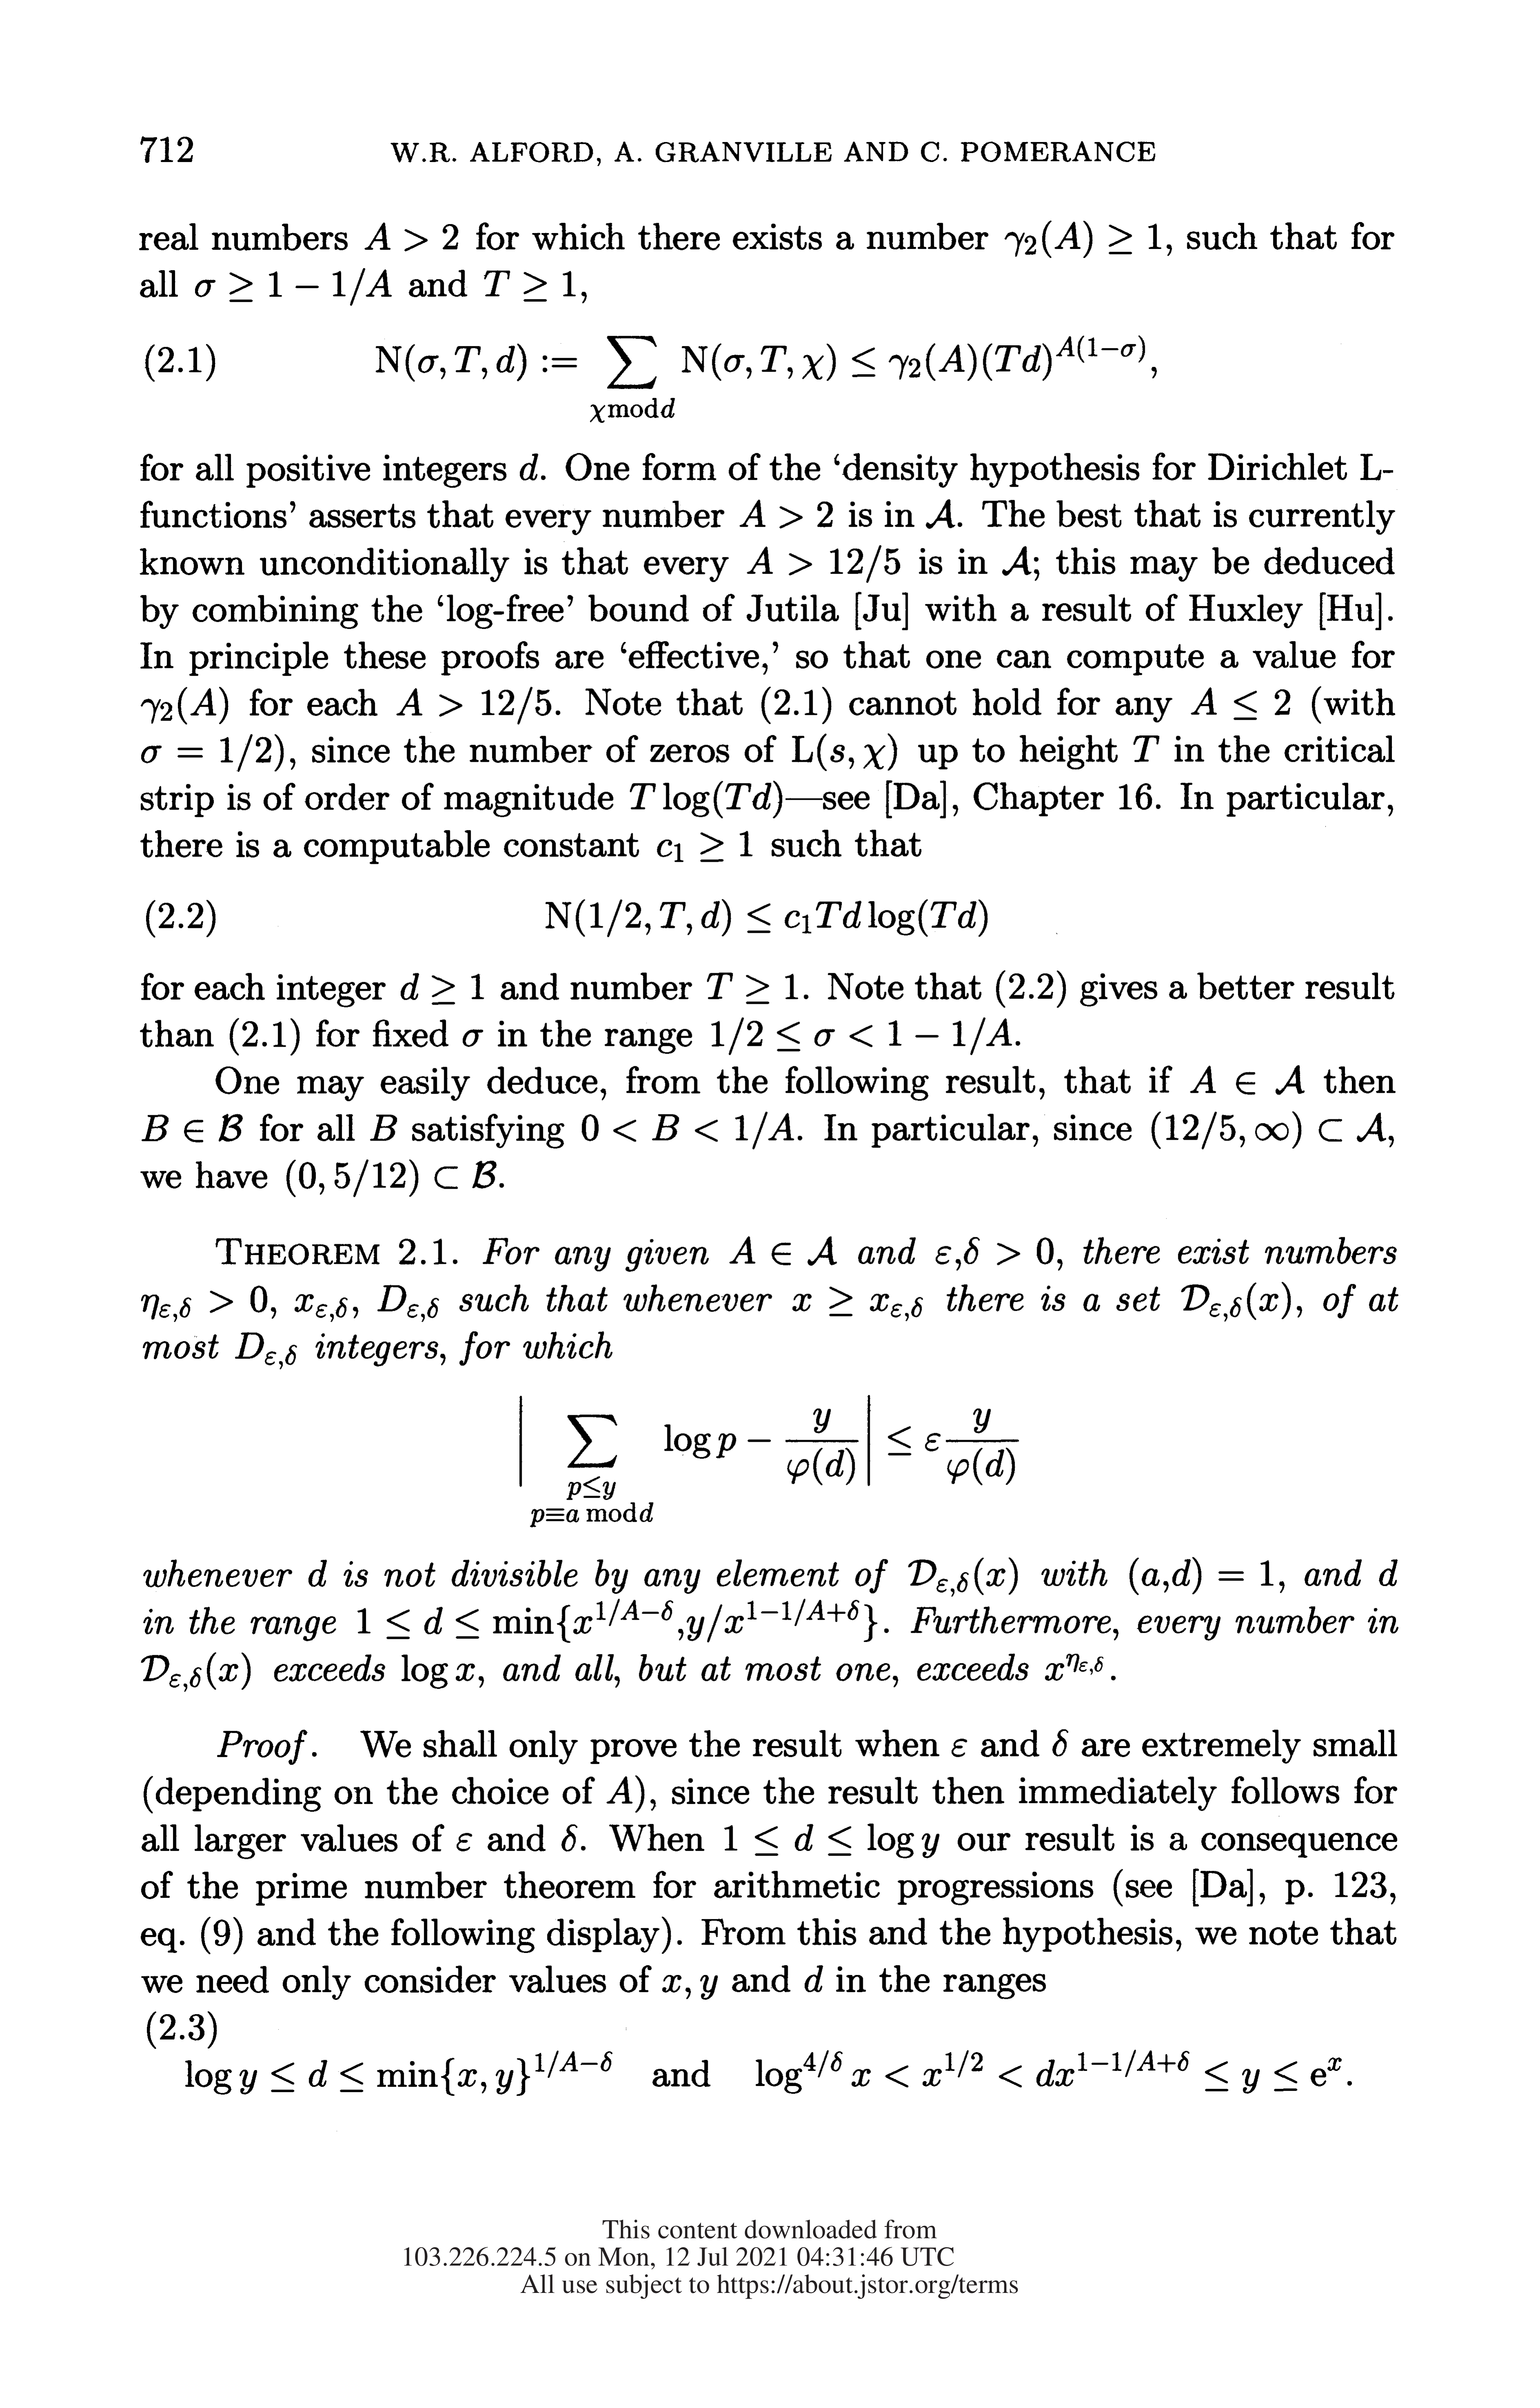maths: (542, 335, 1145, 423), (716, 1395, 1019, 1487), (756, 2050, 1342, 2094), (358, 1599, 877, 1643), (530, 1415, 710, 1527), (186, 2050, 612, 2096), (545, 899, 987, 937), (710, 1018, 1012, 1055), (1152, 1111, 1386, 1150), (582, 1111, 795, 1150), (286, 1160, 496, 1197), (724, 1824, 938, 1859), (195, 269, 391, 305), (1005, 221, 1161, 258), (396, 686, 551, 723), (747, 546, 900, 583), (375, 344, 526, 381), (1130, 1557, 1273, 1595), (140, 734, 284, 770), (140, 1286, 275, 1322), (793, 1286, 923, 1322), (140, 1652, 251, 1692), (663, 781, 782, 818), (909, 1557, 1017, 1597), (1180, 1283, 1291, 1322), (937, 1237, 1054, 1271), (791, 734, 896, 770), (1189, 1065, 1305, 1095), (140, 686, 228, 723), (730, 1236, 837, 1265), (1191, 688, 1289, 720), (656, 830, 752, 862), (484, 270, 575, 302), (707, 972, 798, 1004), (142, 1114, 242, 1143), (400, 972, 484, 1004), (365, 223, 458, 251), (740, 500, 833, 528), (402, 1655, 474, 1688), (377, 1285, 438, 1322), (235, 1332, 296, 1369), (447, 595, 503, 628), (295, 1294, 358, 1322), (1045, 1653, 1103, 1680), (1002, 546, 1031, 576), (926, 498, 954, 528), (661, 1974, 691, 1999), (1133, 735, 1159, 762), (630, 783, 656, 809), (370, 1114, 396, 1141), (607, 1776, 631, 1802), (1379, 1559, 1398, 1587), (519, 453, 538, 479), (309, 1560, 326, 1587), (805, 1966, 823, 1992), (1052, 1729, 1068, 1757), (700, 1974, 717, 1999), (561, 1825, 577, 1852), (463, 1028, 482, 1046), (456, 1832, 472, 1852), (952, 1739, 966, 1757)
